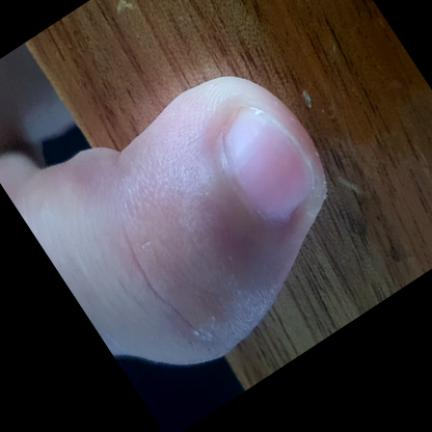Nail: (224, 106, 315, 226)
